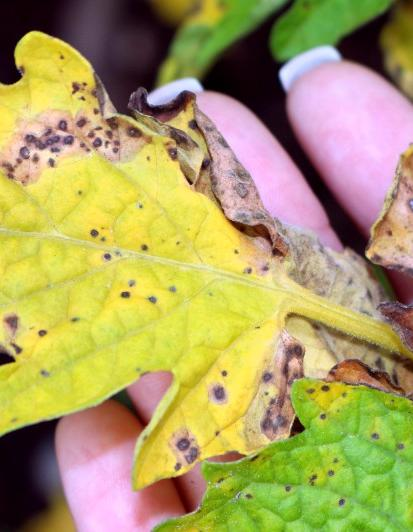Tomato Septoria leaf spot: (0, 42, 317, 451), (92, 311, 413, 532)
